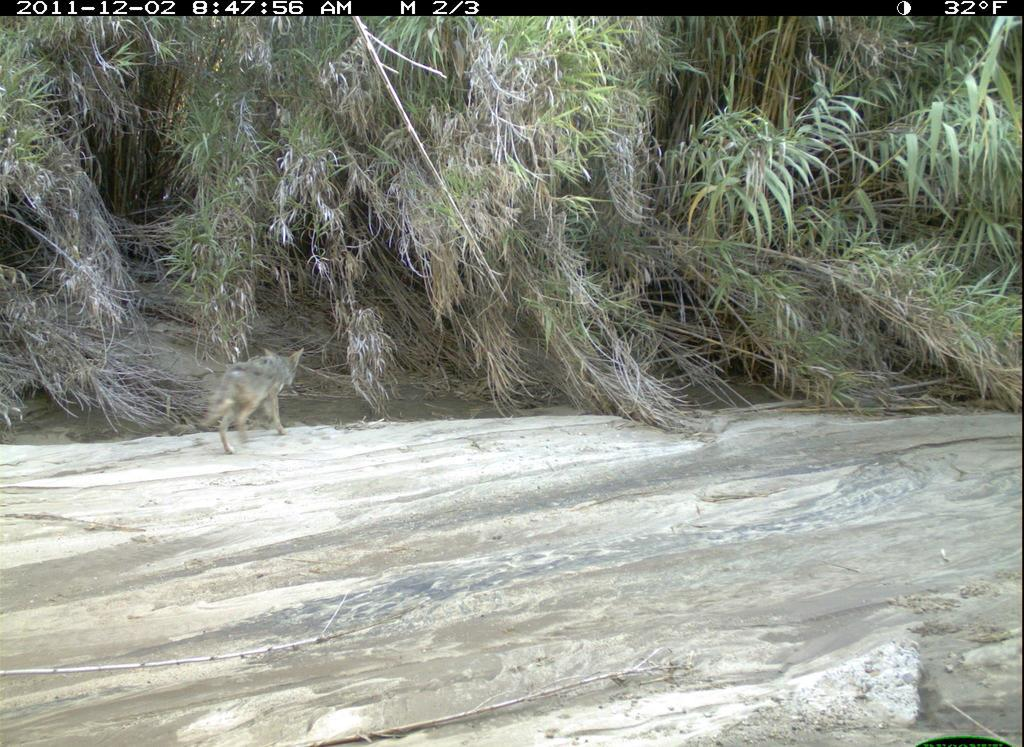coyote: (200, 336, 313, 452)
